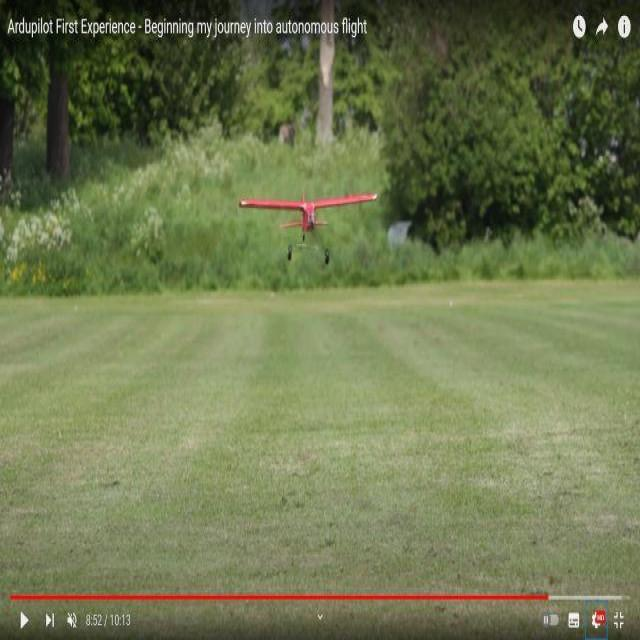UAV: (243, 175, 393, 257)
